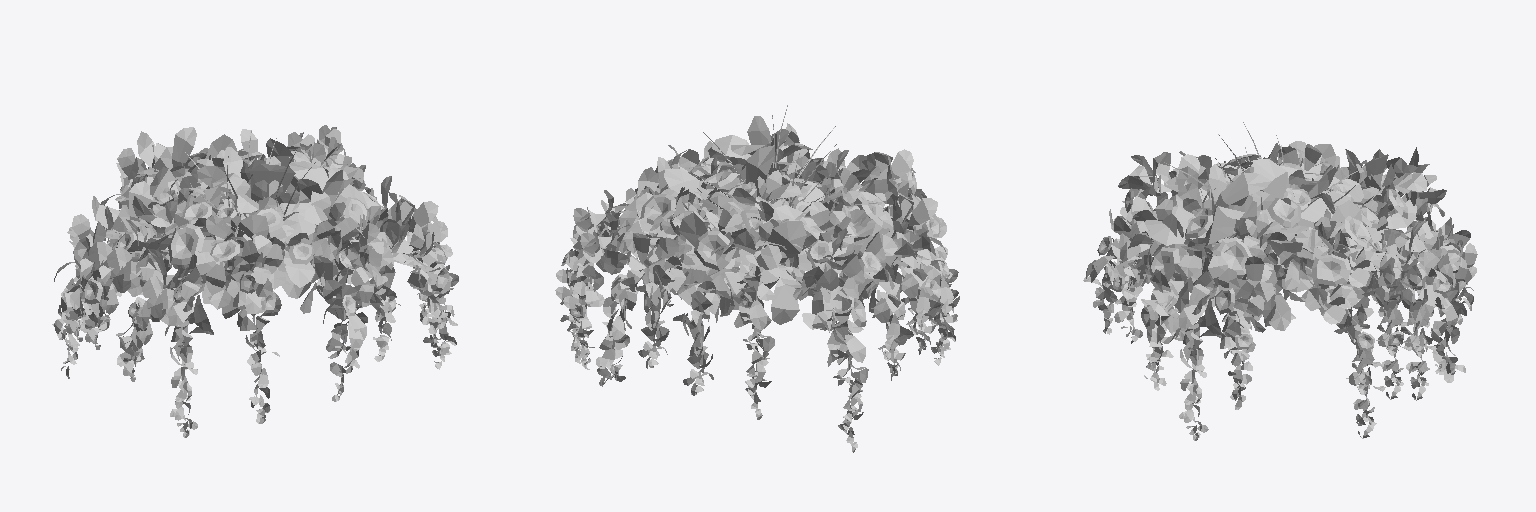
3 views of the same model, side by side, from view 1: azimuth 30°, elevation 25°; view 2: azimuth 150°, elevation 25°; view 3: azimuth 270°, elevation 25° (orthographic).
Parts seen in each view (by area): view 1: Bistro_Research_Exterior_Paris_Flowers_01a1___5__6009; view 2: Bistro_Research_Exterior_Paris_Flowers_01a1___5__6009; view 3: Bistro_Research_Exterior_Paris_Flowers_01a1___5__6009.
Part boxes in pixels (bbox=[...]): Bistro_Research_Exterior_Paris_Flowers_01a1___5__6009: bbox=[52, 125, 458, 437]; Bistro_Research_Exterior_Paris_Flowers_01a1___5__6009: bbox=[555, 105, 959, 452]; Bistro_Research_Exterior_Paris_Flowers_01a1___5__6009: bbox=[1083, 122, 1477, 440].
Bounding box in the file's own units: 0.7121 × 0.5077 × 0.7128.